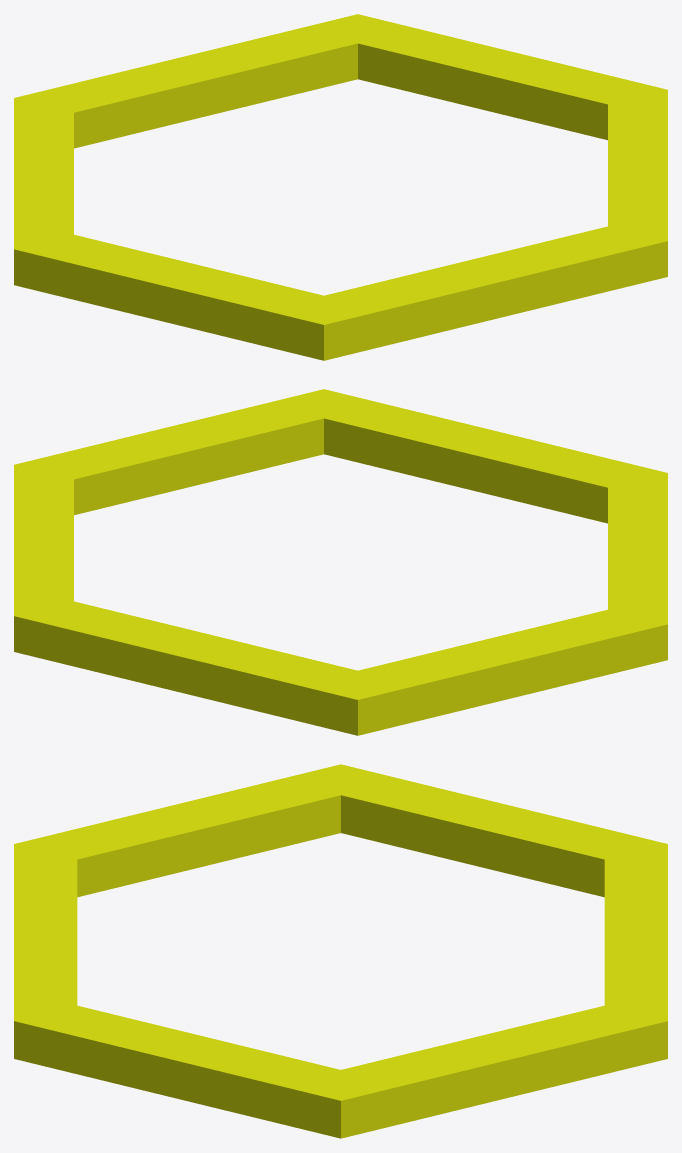
Rendered from Module_Ss_ass_hex2.FBX.
The picture shows the model from 3 angles, top to bottom: view 1: azimuth 30°, elevation 25°; view 2: azimuth 150°, elevation 25°; view 3: azimuth 270°, elevation 25°; orthographic projection. The views are drawn at different scales.
Visible parts, largest first — view 1: Module_Ss_ass_hex2; view 2: Module_Ss_ass_hex2; view 3: Module_Ss_ass_hex2.
Part boxes in pixels (<box>): Module_Ss_ass_hex2: <box>14,14,667,360</box>; Module_Ss_ass_hex2: <box>14,389,667,735</box>; Module_Ss_ass_hex2: <box>14,764,667,1138</box>.
Bounding box in the file's own units: 45.39 × 2.38 × 37.28.
